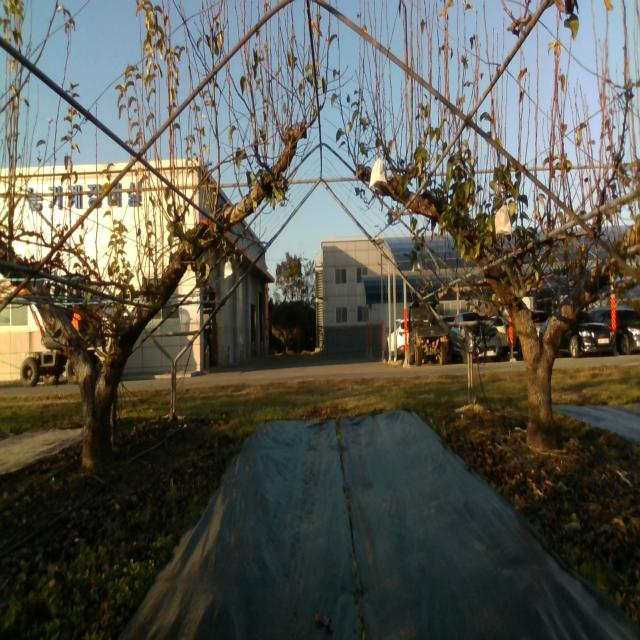pearbags: (495, 200, 512, 240), (369, 157, 388, 189)
